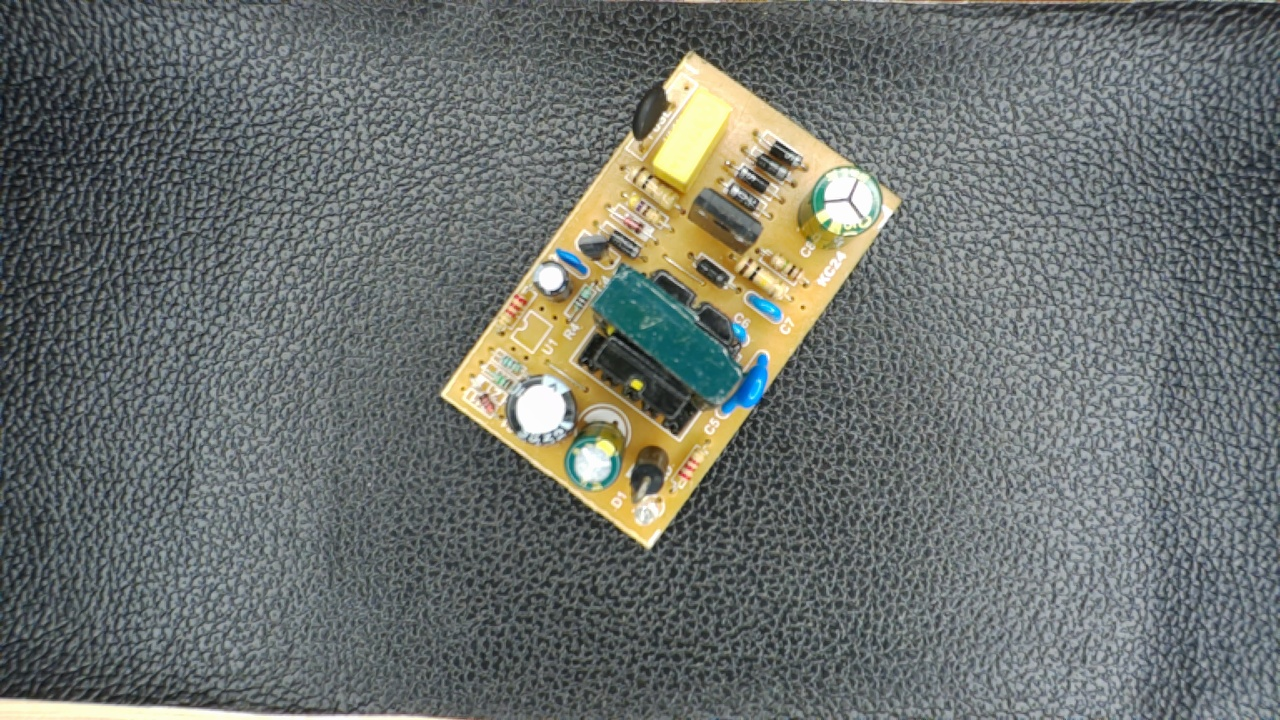fuse: (626, 78, 680, 162)
hv_capacitor: (797, 162, 882, 254)
mov: (719, 348, 776, 425)
